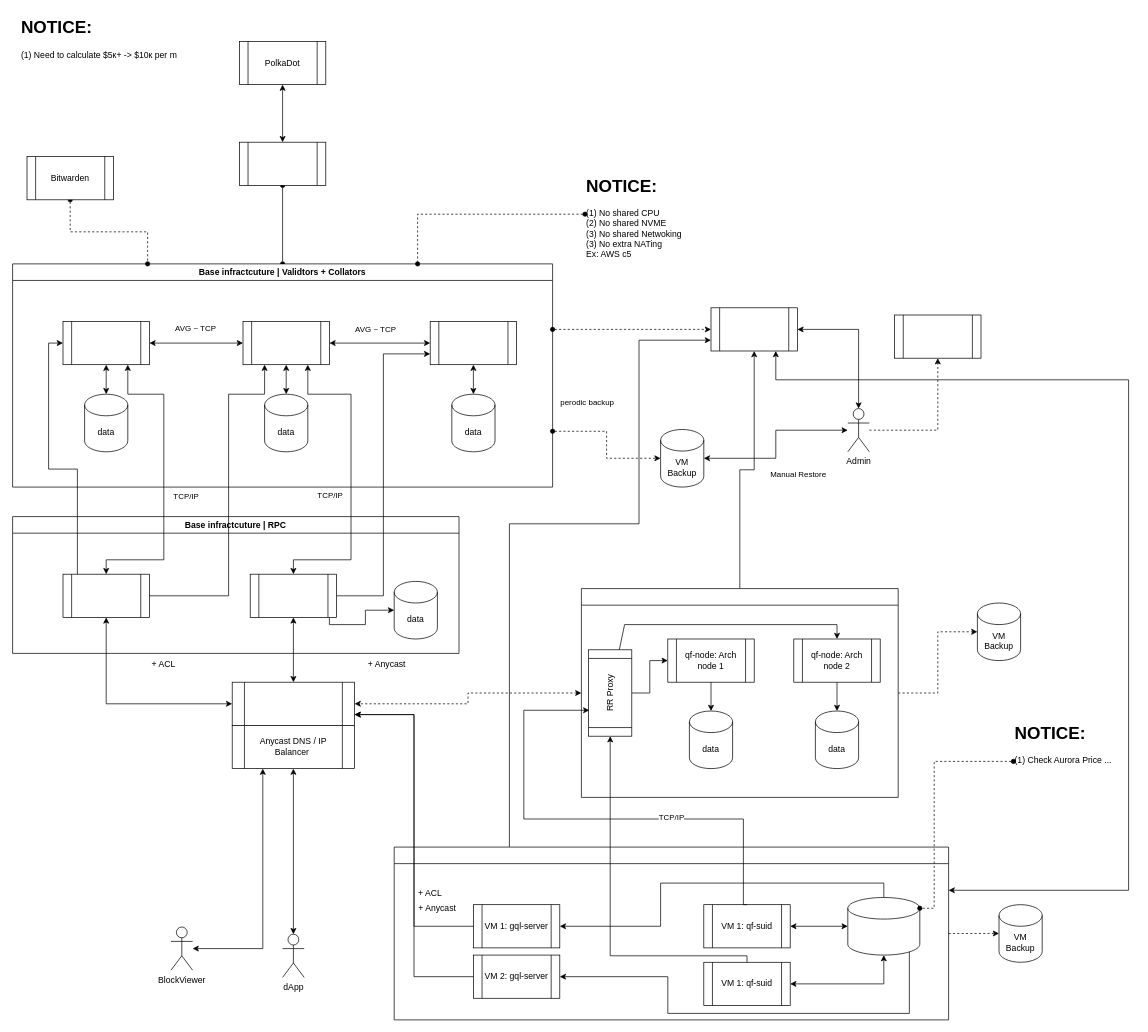
Image size: 1148x1032. Some labels were removed from this diagram. The box of each missing label's shape, as (x1, y1, x2, y2) in pixels:
Base infractcuture | Archives: (581, 588, 898, 797)
Base infractcuture | Tools: (393, 846, 949, 1020)
CloudFlare CDN (W3): (231, 681, 355, 725)
Parachain: (239, 141, 326, 185)
qf-node: RPC Node 1: (62, 573, 149, 617)
qf-node: RPC Node 2: (249, 573, 337, 617)
qf-node: Validator + Collator 1: (62, 321, 149, 365)
qf-node: Validator + Collator 2: (242, 321, 329, 365)
qf-node: Validator + Collator 3: (429, 321, 517, 365)
Reaction, Instructions, L1 - L2 support?: (894, 314, 981, 358)
VM: Monitoring & Alerting: (710, 307, 797, 351)
VMs: PG Part. Cluster (Master -> Slave): (847, 897, 920, 955)
